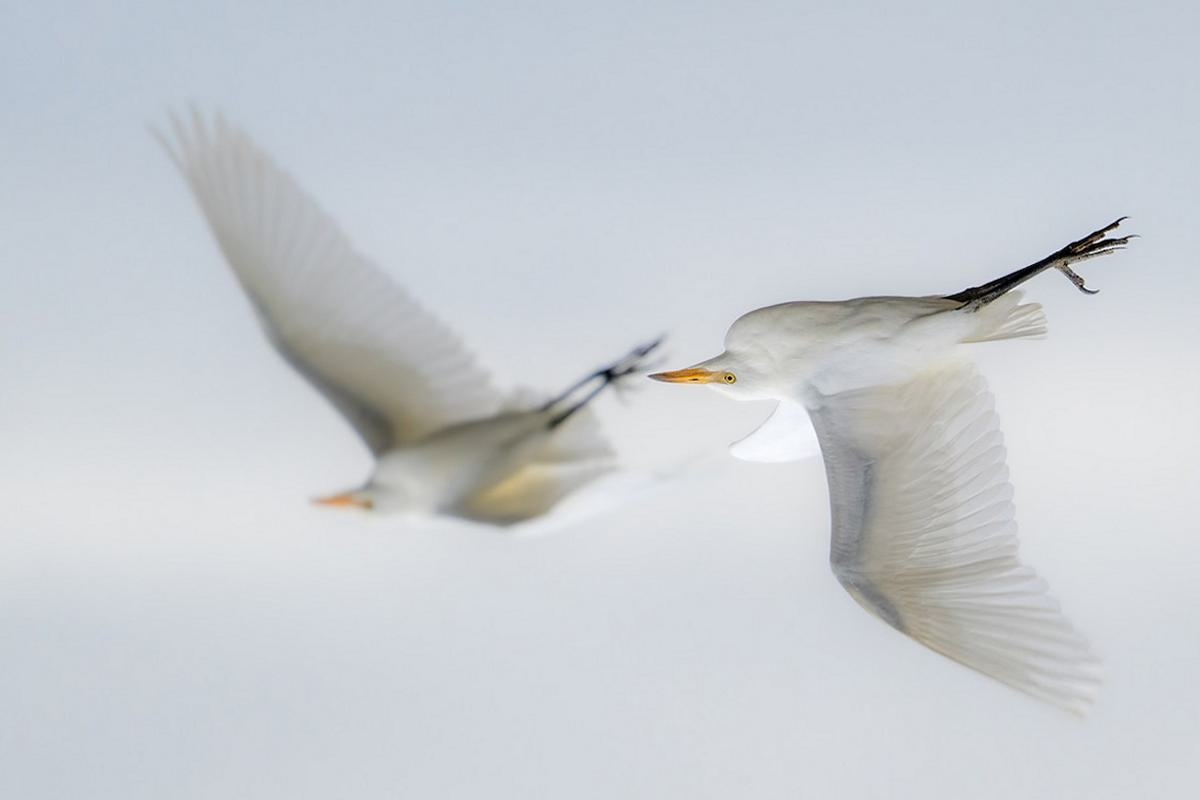egret: (635, 212, 1154, 734), (151, 95, 638, 561)
